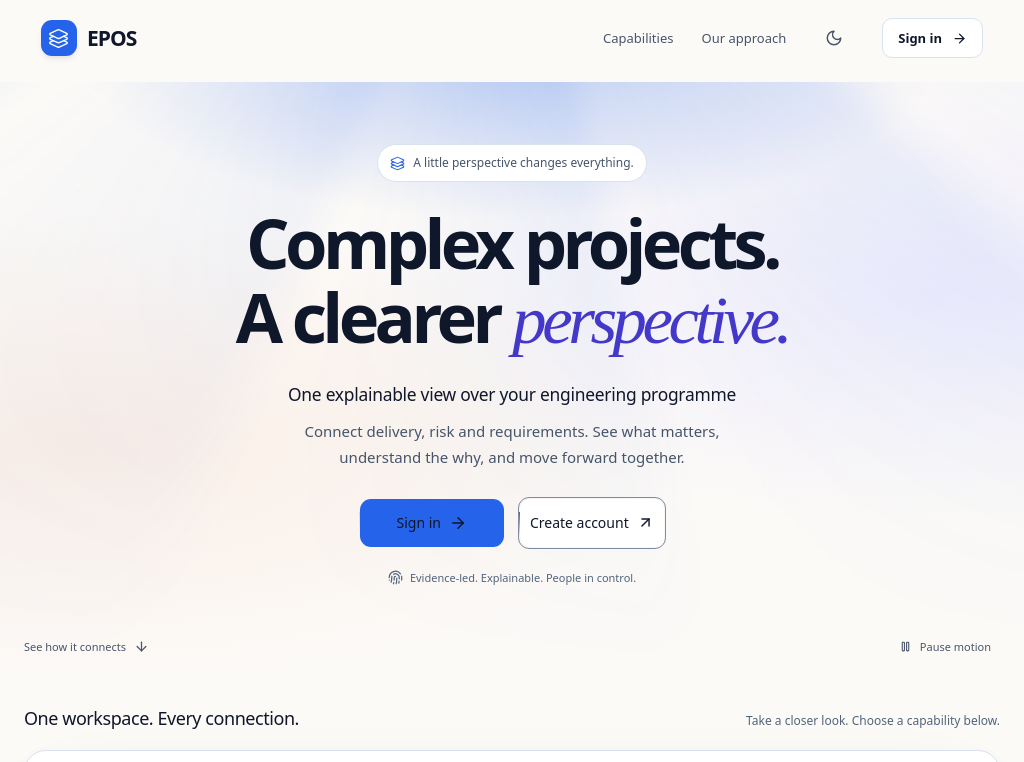
Scenario: Public welcome page › routes Create account to the existing auth page
Click the button "Create account". click: {"x": 592, "y": 523}
box: [518,497,666,549]
(page scrolled)
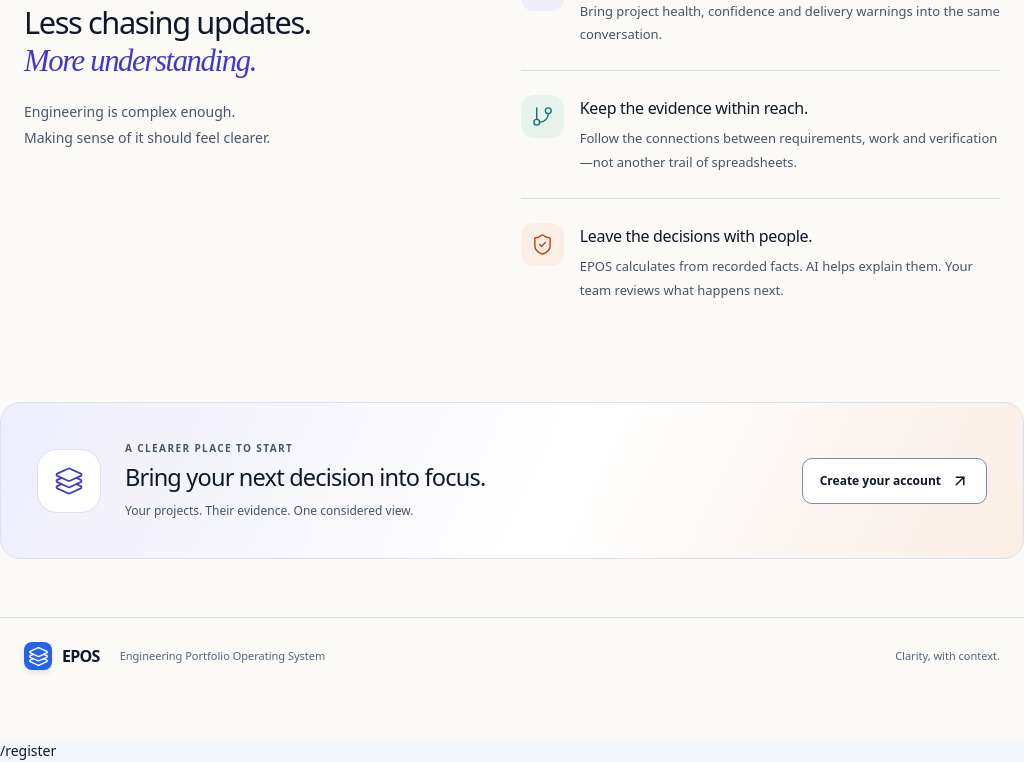
Now the text named "Current route" reads "/register", box [0,741,56,760]
